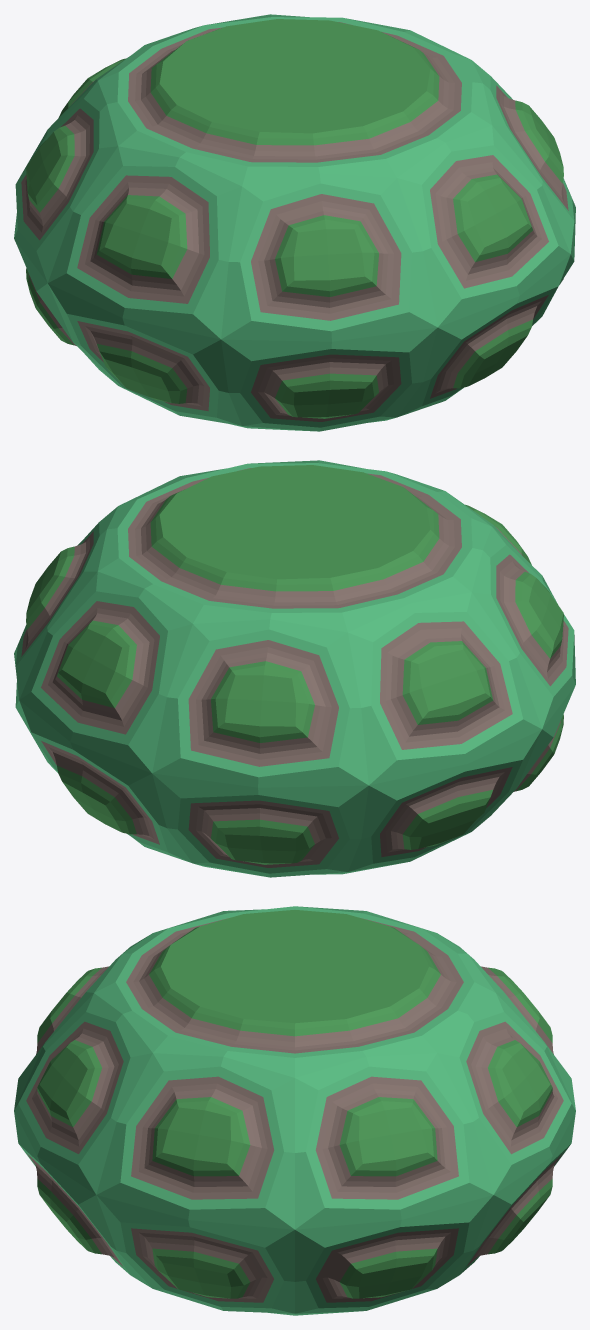
File: В8-Плазменная бомба.fbx
3 views of the same model, one above another, from view 1: azimuth 30°, elevation 25°; view 2: azimuth 150°, elevation 25°; view 3: azimuth 270°, elevation 25° (orthographic).
Visible parts, largest first — view 1: Cylinder; view 2: Cylinder; view 3: Cylinder.
Boxes of the visible parts, box(x1,y1,x2,y2) form: Cylinder: box(14, 14, 575, 431); Cylinder: box(14, 460, 575, 877); Cylinder: box(14, 906, 575, 1315).
Bounding box in the file's own units: 277 × 157 × 277.
